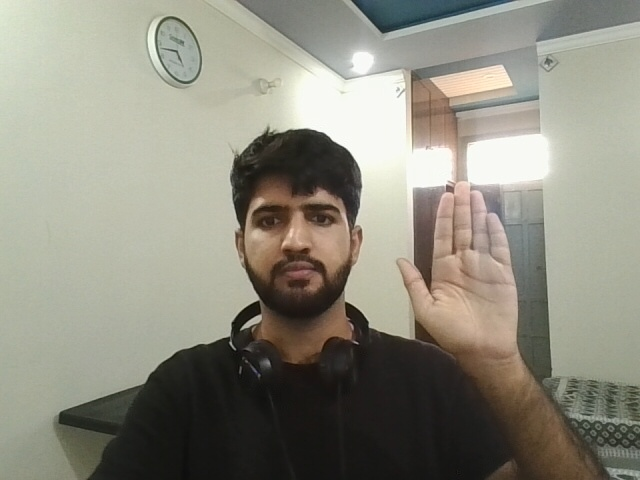Hello: (385, 175, 554, 373)
